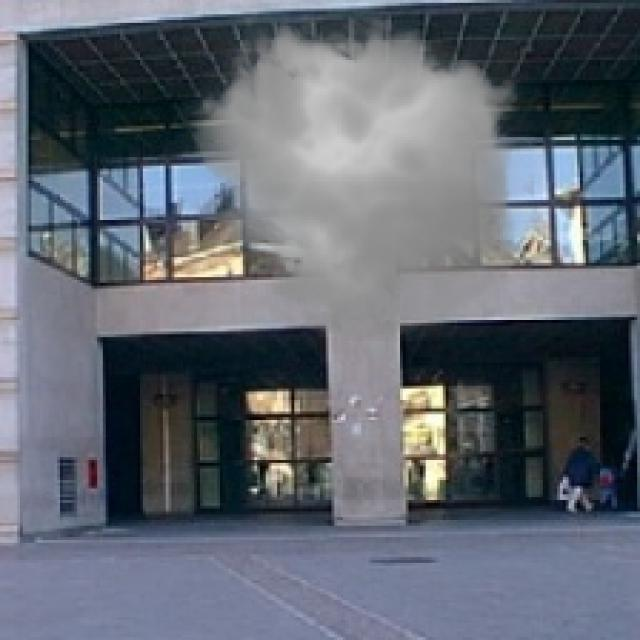Smoke: (180, 2, 534, 352)
